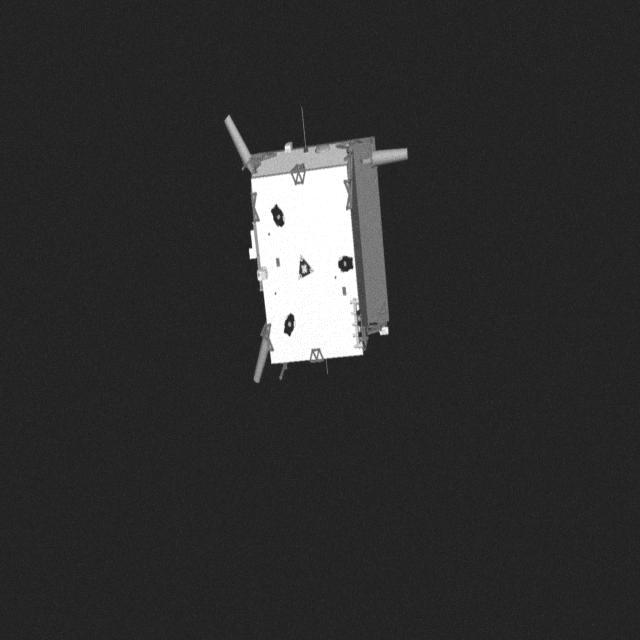medium_debris: (214, 108, 410, 390)
